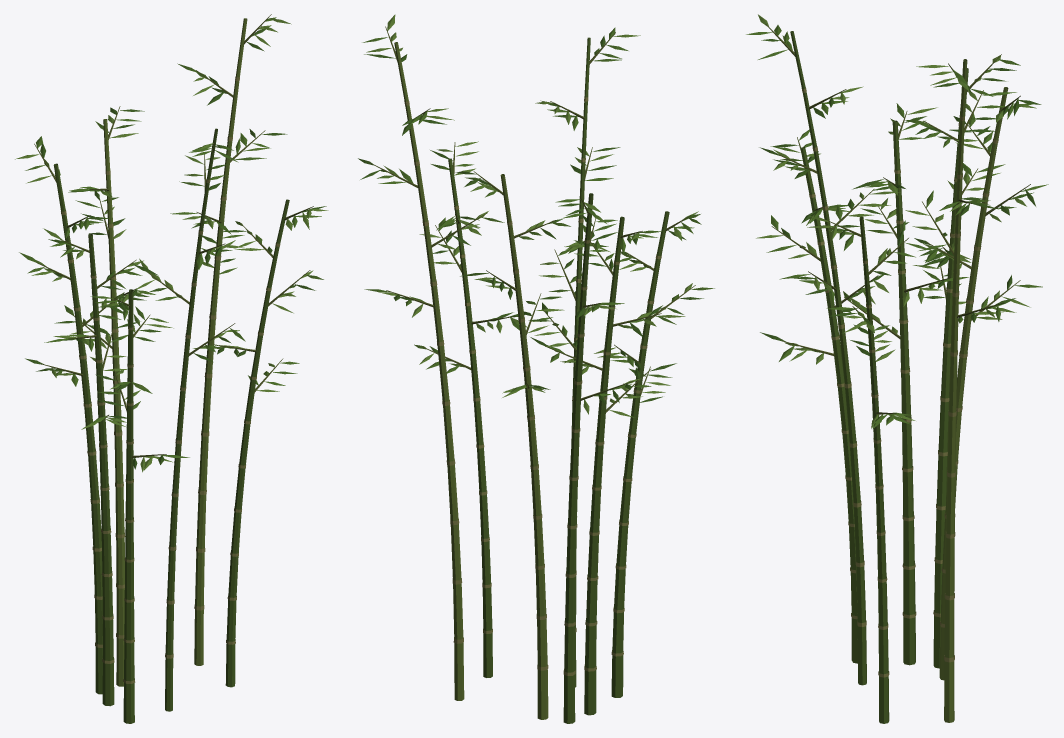
File: valley-bamboo-b.obj
3 renders of one model, left to right at view 1: azimuth 30°, elevation 25°; view 2: azimuth 150°, elevation 25°; view 3: azimuth 270°, elevation 25°, orthographic. The views are drawn at different scales.
Size of the model in its own units: 3.42 by 7.45 by 2.97.
